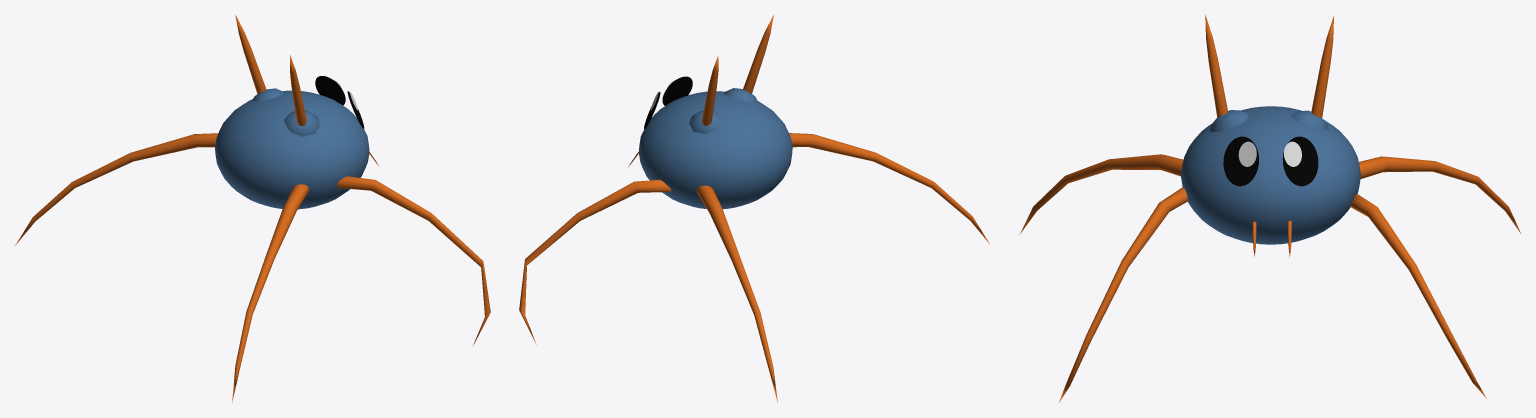
The model's file is pondBoiMove2.fbx.
3 renders of one model, left to right at view 1: azimuth 30°, elevation 25°; view 2: azimuth 150°, elevation 25°; view 3: azimuth 270°, elevation 25°, orthographic. The views are drawn at different scales.
Visible parts, largest first — view 1: Sphere, Cylinder.006, Cylinder.007, Cylinder.003, Cylinder, Cylinder.001, Circle.001; view 2: Sphere, Cylinder.006, Cylinder.007, Cylinder.003, Cylinder.001, Cylinder, Circle; view 3: Sphere, Cylinder.003, Cylinder.006, Cylinder.007, Cylinder, Cylinder.001, Circle, Circle.001.
Part boxes in pixels (<box>): Sphere: <box>215,90,369,209</box>; Cylinder.006: <box>15,133,218,245</box>; Cylinder.007: <box>232,184,309,402</box>; Cylinder.003: <box>337,176,490,345</box>; Cylinder: <box>284,55,319,136</box>; Cylinder.001: <box>235,15,283,101</box>; Circle.001: <box>315,76,345,105</box>; Sphere: <box>638,91,792,209</box>; Cylinder.006: <box>697,185,777,402</box>; Cylinder.007: <box>789,133,989,243</box>; Cylinder.003: <box>519,179,671,344</box>; Cylinder.001: <box>689,55,723,134</box>; Cylinder: <box>724,15,773,102</box>; Circle: <box>662,76,692,105</box>; Sphere: <box>1181,106,1360,244</box>; Cylinder.003: <box>1059,187,1486,402</box>; Cylinder.006: <box>1359,156,1520,233</box>; Cylinder.007: <box>1020,154,1183,233</box>; Cylinder: <box>1205,15,1248,131</box>; Cylinder.001: <box>1291,16,1333,130</box>; Circle: <box>1223,136,1258,186</box>; Circle.001: <box>1282,136,1318,186</box>.
Bounding box in the file's own units: 276 × 256 × 361.
